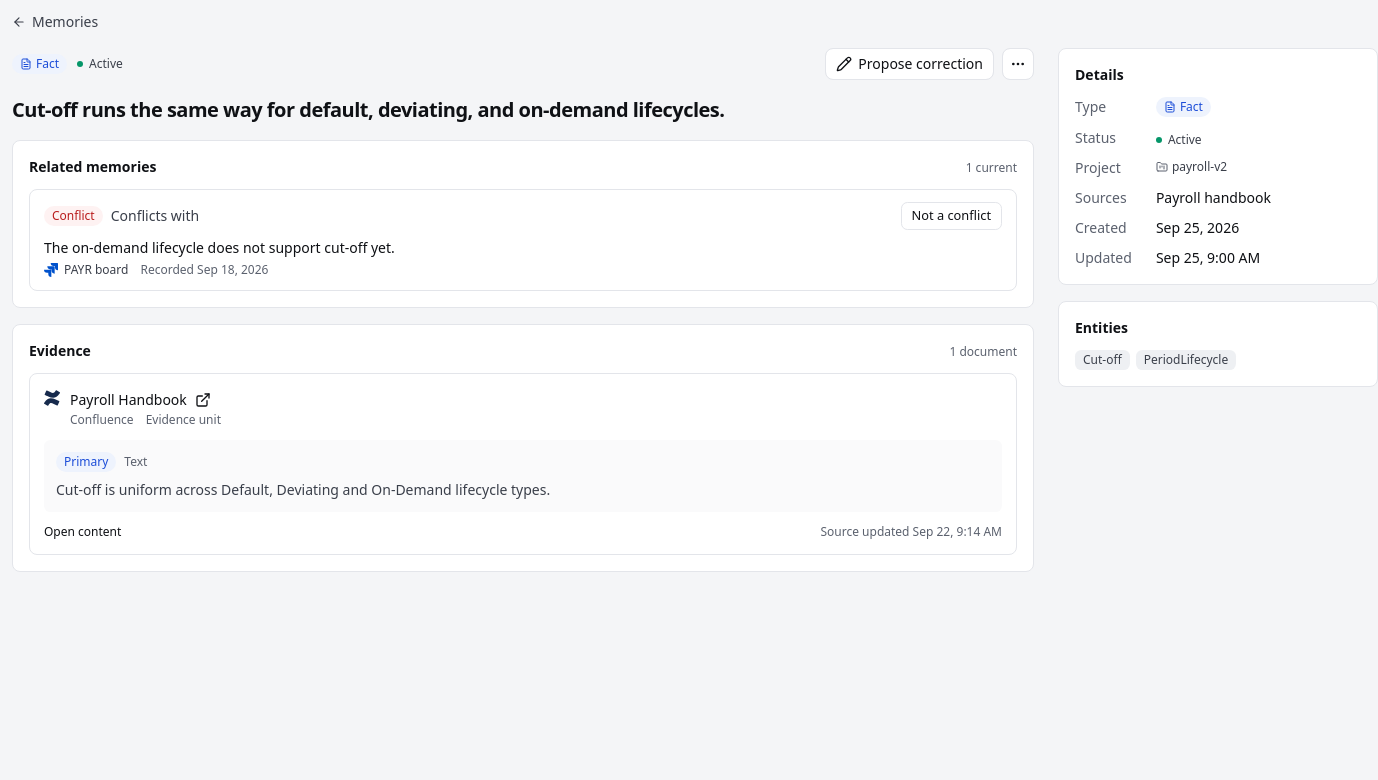
it: a source-backed memory offers Retire only with the reason it cannot
The image size is (1378, 780).
Click the button named "More actions" at x=1018, y=64, box [1002,48,1034,80]
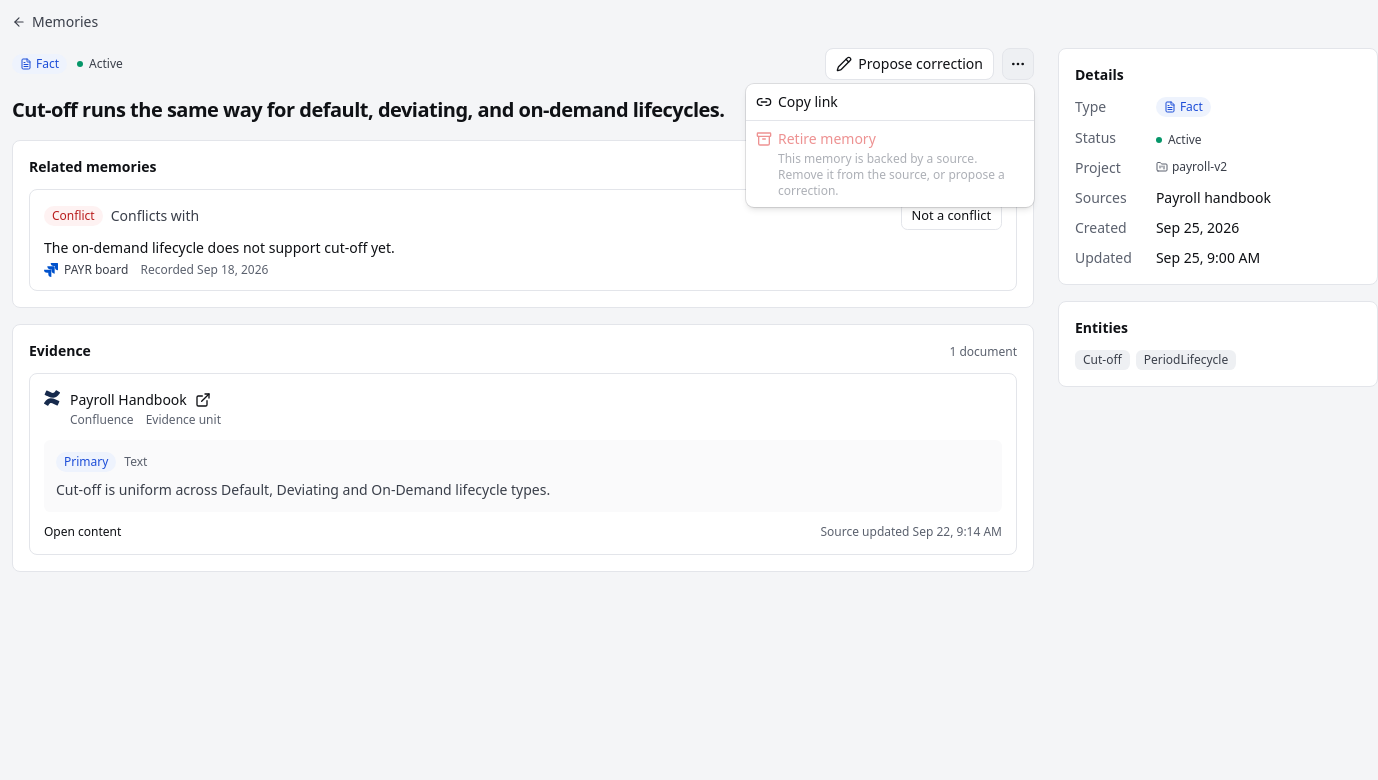
Now the menu item "Retire memory" shows "This memory is backed by a source. Remove it from the source, or propose a correction.", box [750,125,1030,203]
